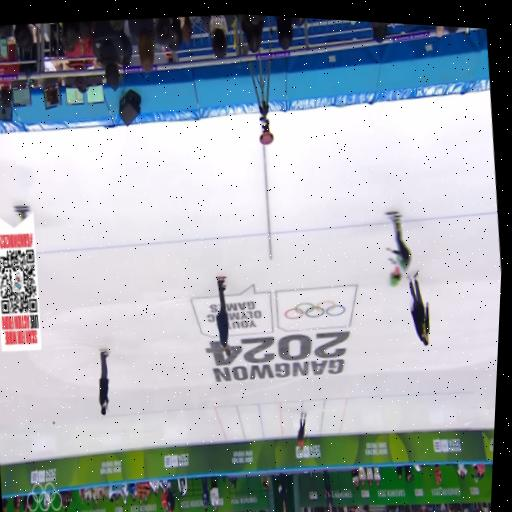Skater: (386, 212, 410, 285), (294, 411, 311, 453)
